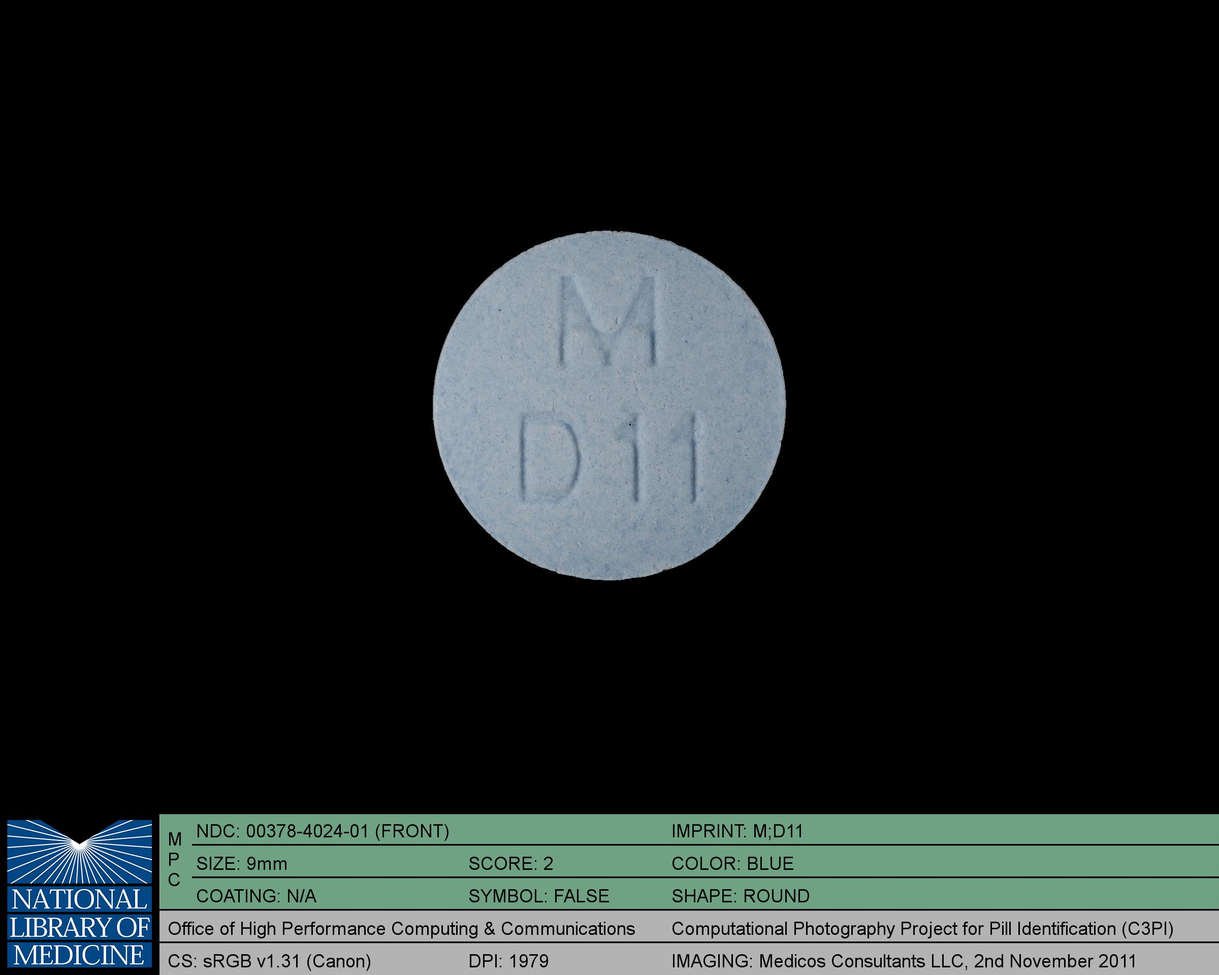Pill: (420, 220, 799, 589)
